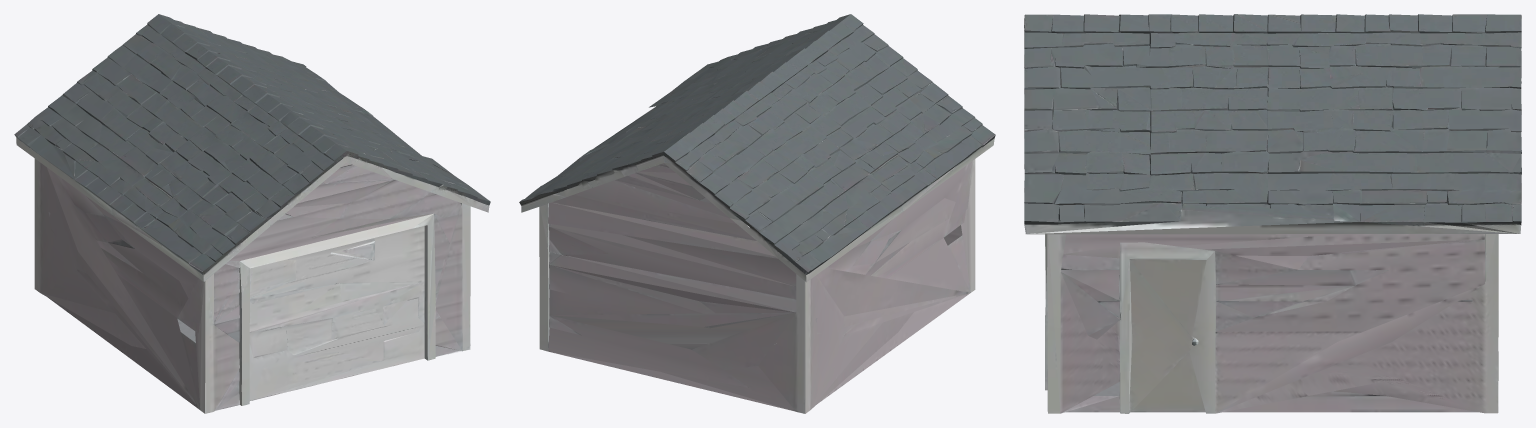
File: garage.glb
3 renders of one model, left to right at view 1: azimuth 30°, elevation 25°; view 2: azimuth 150°, elevation 25°; view 3: azimuth 270°, elevation 25°, orthographic. The views are drawn at different scales.
Bounding box in the file's own units: 1.69 × 1.33 × 1.9.
Materials: 1 (1 with a texture image).
